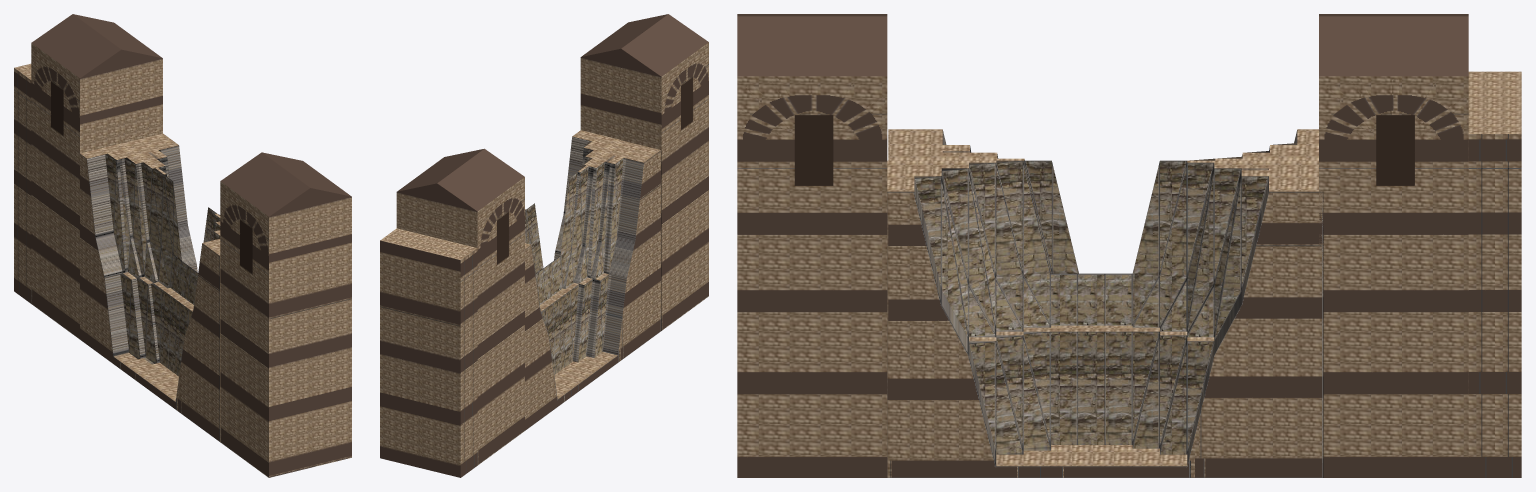
File: Persian_Wall_Semidemolished.fbx
The picture shows the model from 3 angles, left to right: view 1: azimuth 30°, elevation 25°; view 2: azimuth 150°, elevation 25°; view 3: azimuth 270°, elevation 25°; orthographic projection. The views are drawn at different scales.
Parts seen in each view (by area): view 1: Cube_001, Cube_000, Cube_004; view 2: Cube_001, Cube_000, Cube_004; view 3: Cube_001, Cube_004, Cube_000.
Part boxes in pixels (box(x1,y1,x2,y2)): Cube_001: box(14, 14, 351, 477); Cube_000: box(80, 143, 220, 441); Cube_004: box(121, 133, 220, 272); Cube_001: box(380, 14, 708, 477); Cube_000: box(525, 140, 661, 430); Cube_004: box(525, 130, 620, 273); Cube_001: box(737, 14, 1521, 477); Cube_004: box(887, 160, 1323, 477); Cube_000: box(888, 129, 1318, 273).
Size of the model in its own units: 1.97 by 6.34 by 10.47.
Materials: 2 (2 with a texture image).
